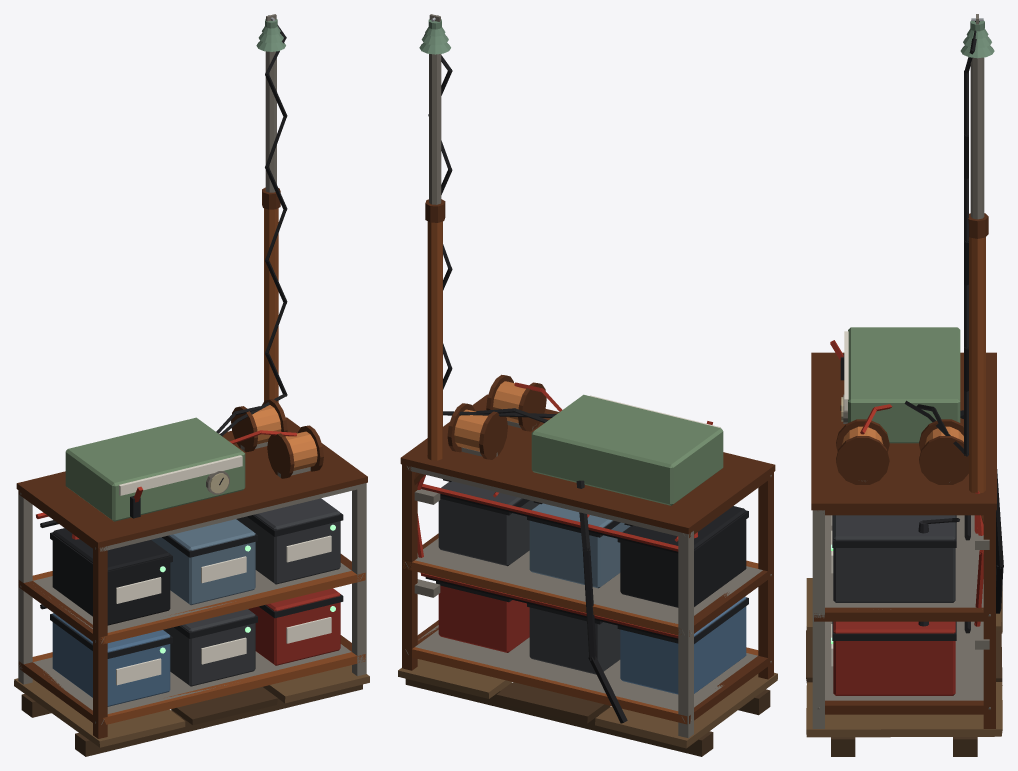
The model's file is battery_station.glb.
3 views of the same model, side by side, from view 1: azimuth 30°, elevation 25°; view 2: azimuth 150°, elevation 25°; view 3: azimuth 270°, elevation 25° (orthographic). The views are drawn at different scales.
Visible parts, largest first — view 1: battery_station, battery_station_cell3, battery_station_cell0, battery_station_cell5, battery_station_cell4, battery_station_cell1, battery_station_cell2; view 2: battery_station, battery_station_cell3, battery_station_cell0, battery_station_cell5, battery_station_cell4, battery_station_cell2, battery_station_cell1; view 3: battery_station, battery_station_cell5, battery_station_cell2.
Part boxes in pixels (bbox=[...]): battery_station: bbox=[14, 14, 369, 756]; battery_station_cell3: bbox=[50, 528, 172, 625]; battery_station_cell0: bbox=[50, 613, 172, 706]; battery_station_cell5: bbox=[236, 498, 343, 584]; battery_station_cell4: bbox=[151, 519, 257, 605]; battery_station_cell1: bbox=[163, 609, 257, 686]; battery_station_cell2: bbox=[248, 588, 343, 665]; battery_station: bbox=[398, 14, 777, 756]; battery_station_cell3: bbox=[617, 506, 748, 607]; battery_station_cell0: bbox=[617, 596, 748, 694]; battery_station_cell5: bbox=[438, 479, 539, 566]; battery_station_cell4: bbox=[527, 501, 630, 588]; battery_station_cell2: bbox=[436, 581, 529, 652]; battery_station_cell1: bbox=[527, 603, 620, 674]; battery_station: bbox=[806, 14, 1003, 756]; battery_station_cell5: bbox=[831, 515, 959, 602]; battery_station_cell2: bbox=[831, 621, 956, 695].
Size of the model in its own units: 1.5 by 3.27 by 0.8102.
